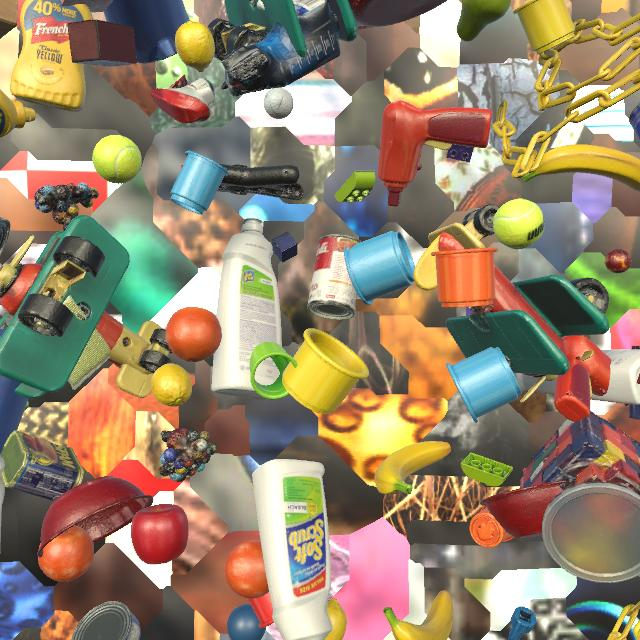ycb_002_master_chef_can: (629, 102, 640, 141), (0, 217, 10, 256)
ycb_003_cracker_box: (637, 374, 640, 384)
ycb_005_tomato_soup_can: (308, 234, 362, 320)
ycb_006_mustard_bottle: (10, 0, 94, 112), (0, 89, 36, 138)
ycb_007_tuna_fish_can: (71, 601, 141, 640)
ycb_009_gelatin_box: (61, 0, 113, 12)
ycb_010_potted_meat_can: (0, 430, 84, 501)
ycb_011_banana: (522, 144, 640, 192), (375, 441, 451, 495), (383, 590, 453, 640)
ycb_013_apple: (131, 504, 189, 565)
ycb_014_lemon: (175, 21, 215, 72), (151, 363, 192, 407), (325, 598, 347, 640)
ycb_016_pear: (457, 0, 511, 42)
ycb_017_orange: (38, 526, 94, 582), (165, 307, 222, 362), (224, 540, 269, 599)
